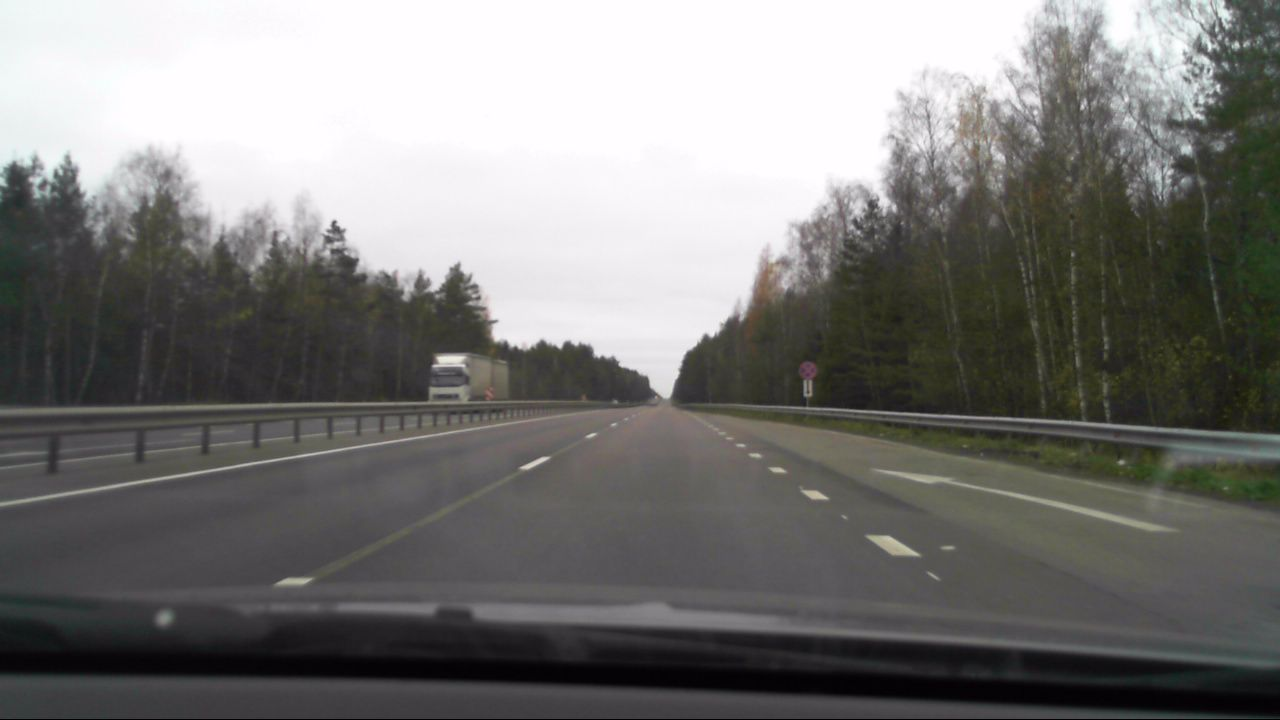No Parking: (797, 359, 819, 381)
